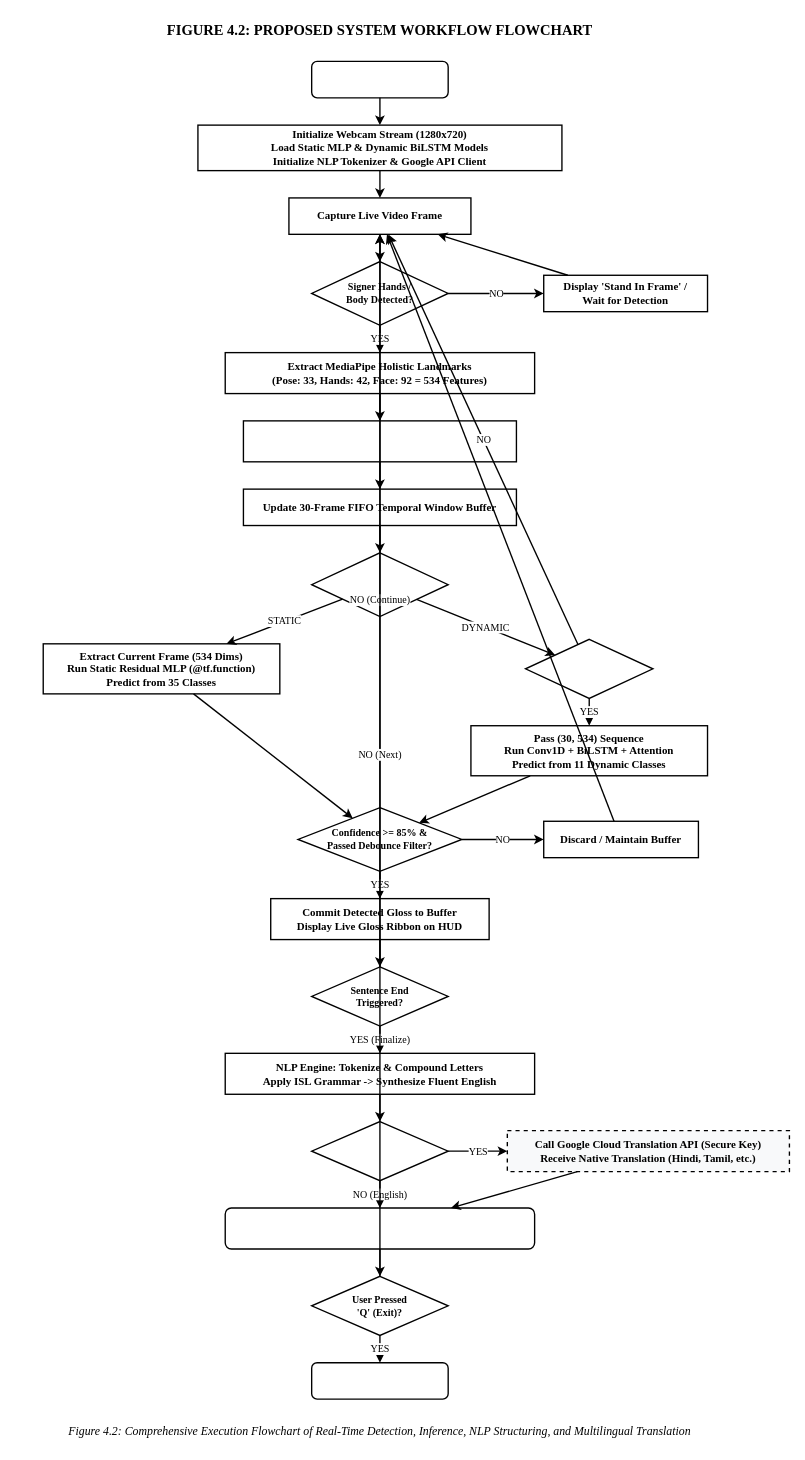
Some shapes in this 805 by 1460 pixel diagram are drawn without their labels. Here are the shapes that lost their labels. From the top down, the box of each, then its label:
(311, 60, 448, 98): START
(242, 420, 517, 462): Apply Shoulder-Relative Normalization Center origin + Euclidean scale invariant
(311, 552, 448, 617): Active Mode Selection?
(524, 638, 653, 699): Buffer Full (30 Frames)?
(311, 1120, 448, 1181): Regional Language Selected?
(224, 1207, 535, 1249): Render Translated Output Banner Play Native Text-to-Speech (TTS) Audio
(311, 1362, 448, 1399): STOP / RELEASE WEBCAM
